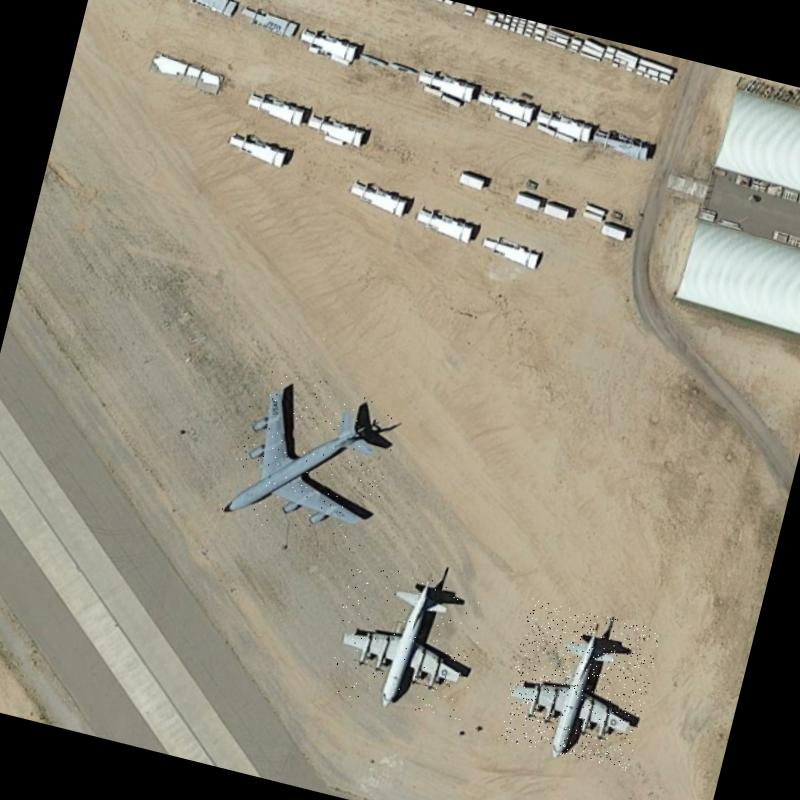A14: (219, 365, 403, 553)
A9: (318, 557, 492, 725), (496, 598, 662, 771)
